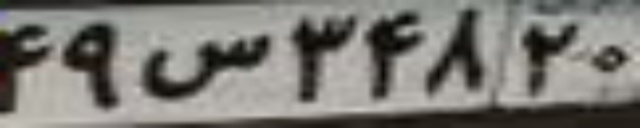0: (586, 43, 634, 74)
2: (519, 22, 579, 98)
3: (291, 13, 353, 103)
4: (368, 12, 427, 100), (1, 26, 55, 114)
8: (427, 9, 487, 98)
9: (61, 23, 125, 109)
sin: (135, 33, 273, 98)
